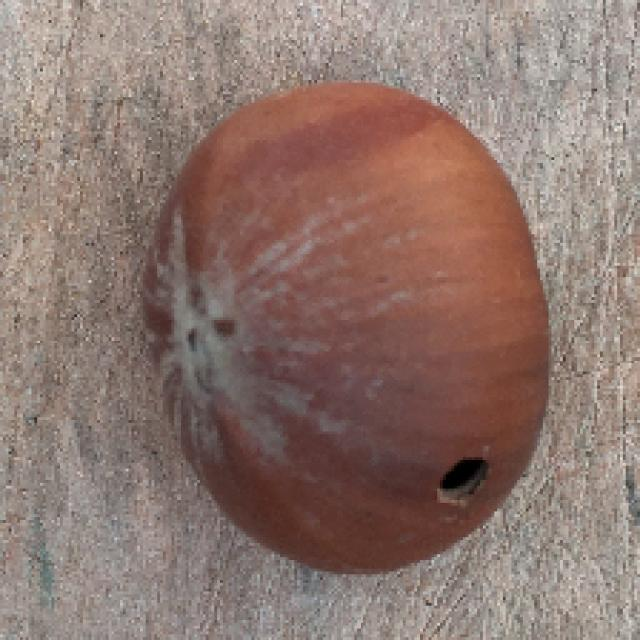damagedHazelnut: (145, 82, 561, 566)
